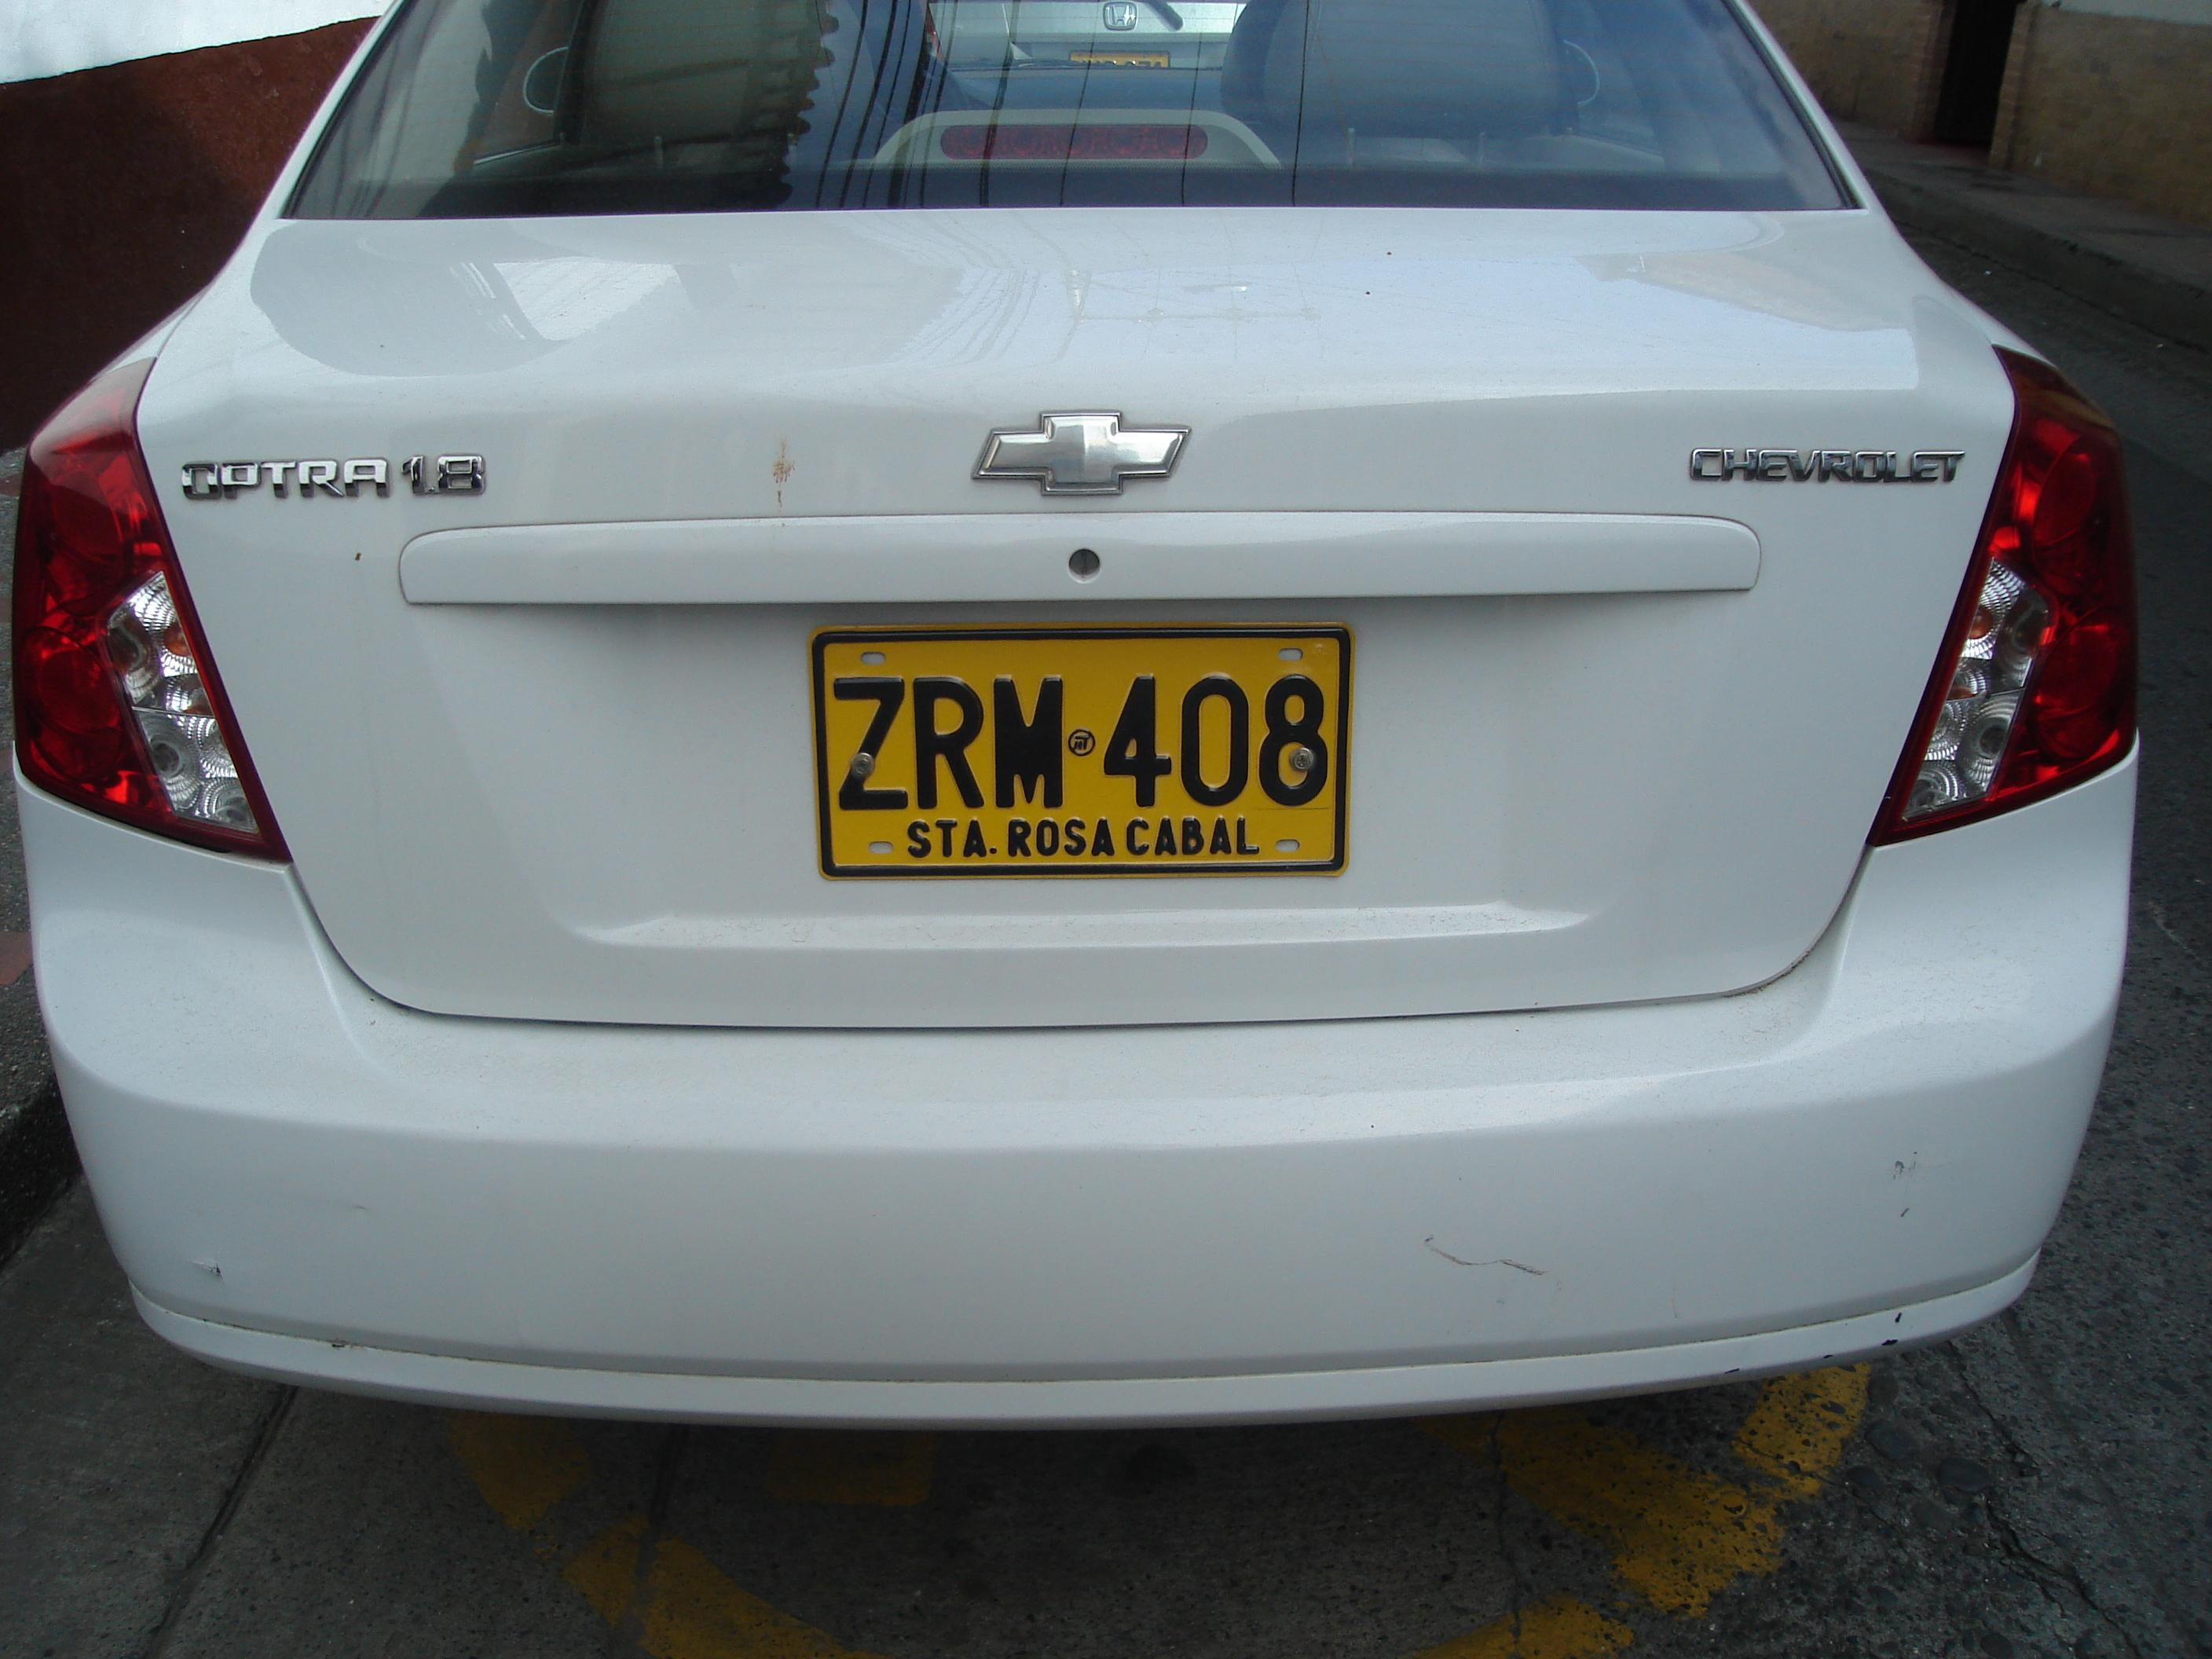placas: (798, 606, 1362, 892)
